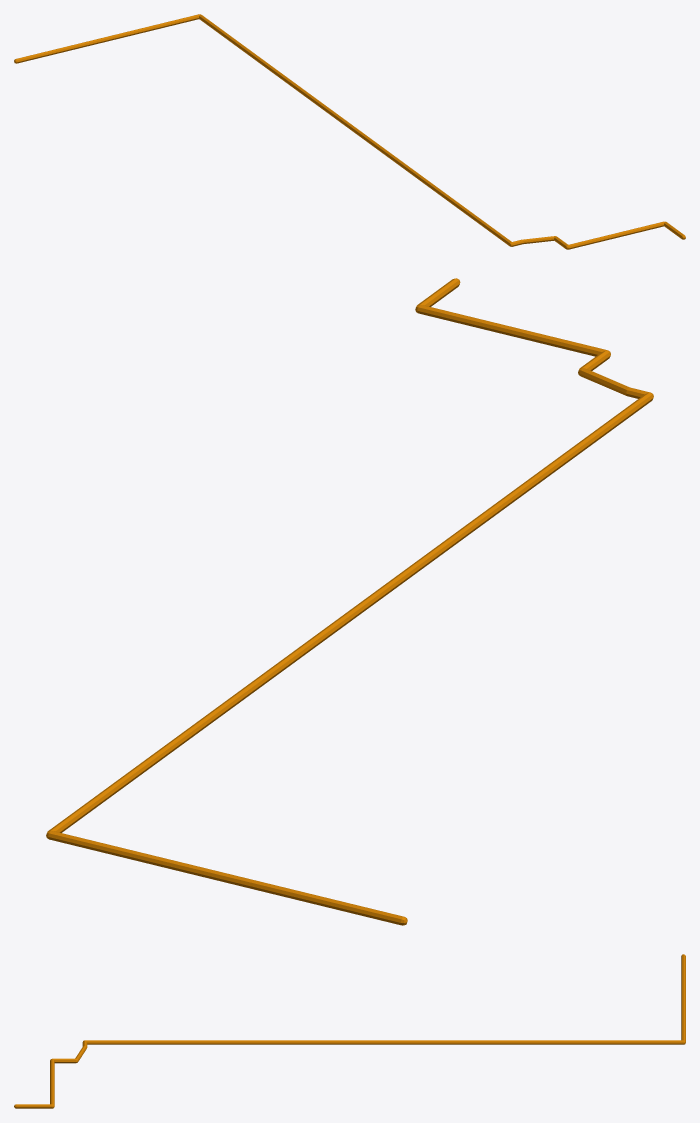
3 renders of one model, top to bottom at view 1: azimuth 30°, elevation 25°; view 2: azimuth 150°, elevation 25°; view 3: azimuth 270°, elevation 25°, orthographic. The views are drawn at different scales.
Bounding box in the file's own units: 1502 × 20 × 2806.
